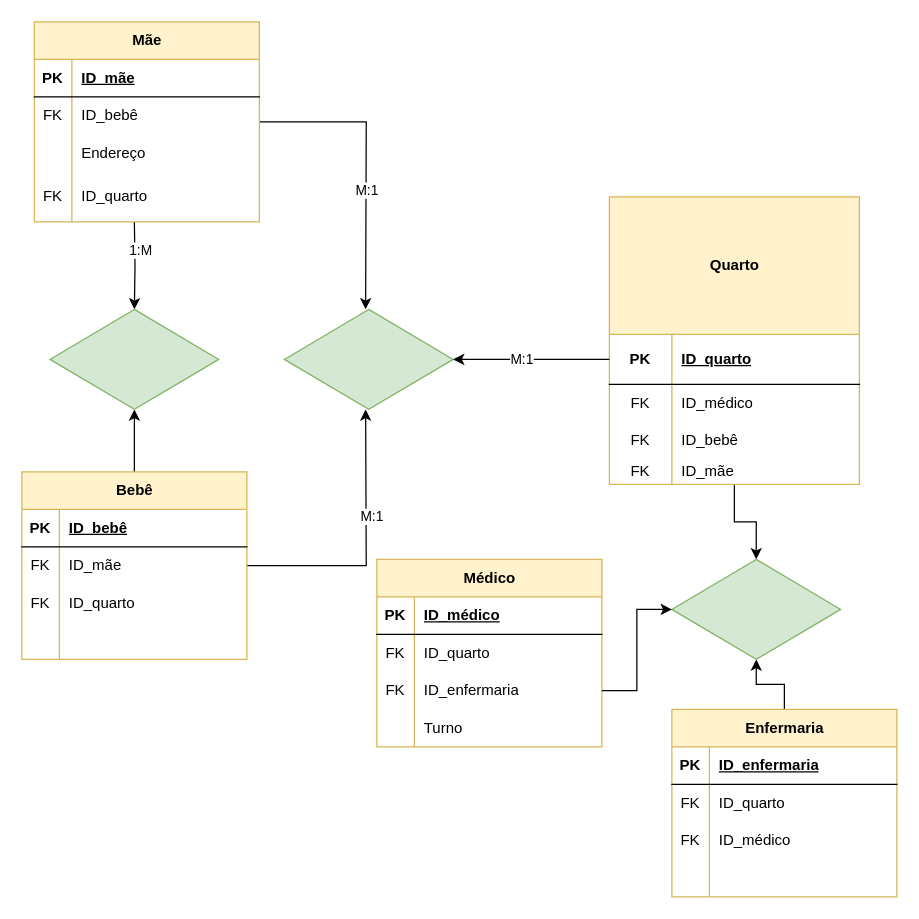
Image size: 919x919. Some labels were removed from this diagram. Here are the shapes that lost their labels. From the top down, the centre of each, then its label:
At (134,358): "Gera".
At (368,358): "Hospeda".
At (756,608): "Atende".
